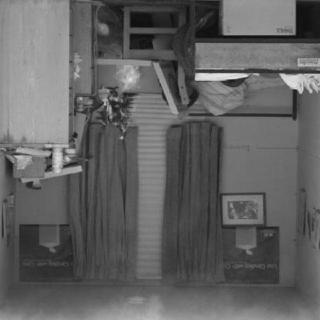Fire: (108, 44, 142, 98)
